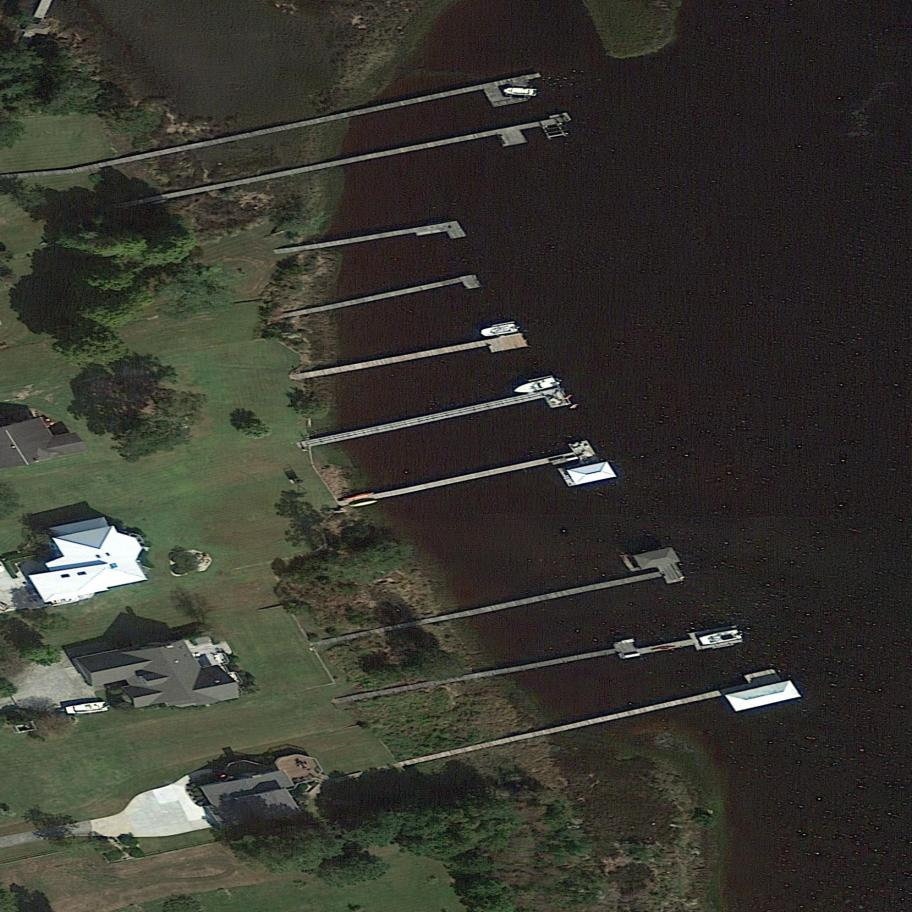ship: (508, 374, 561, 398), (694, 626, 748, 648), (479, 319, 522, 340), (65, 699, 113, 717), (500, 84, 541, 101)
